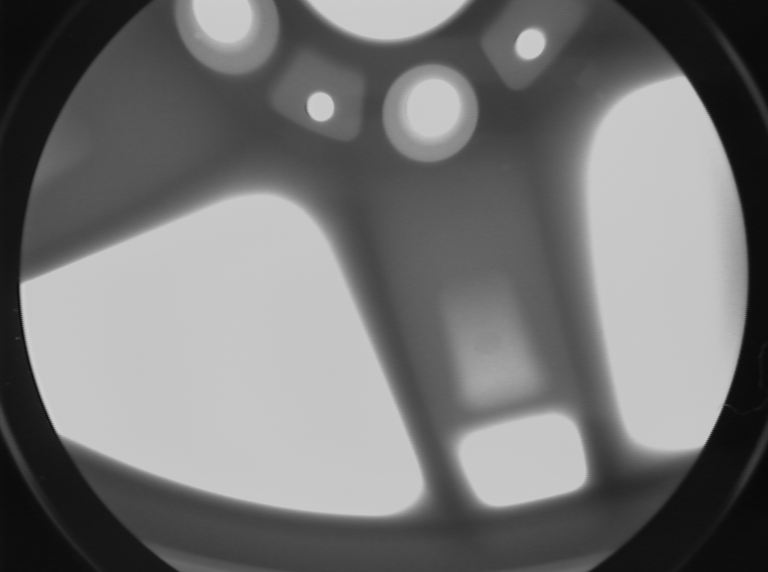defect: (190, 28, 206, 45)
